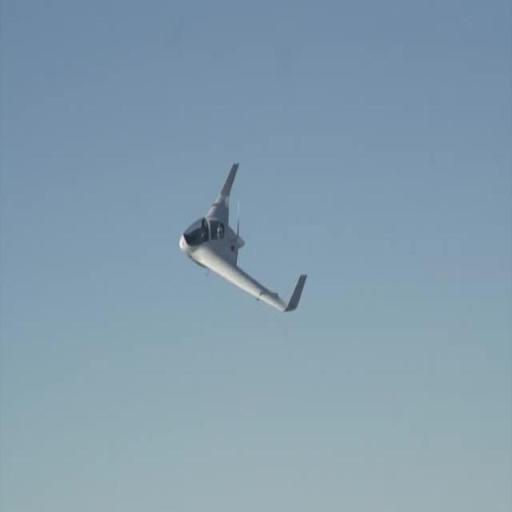uav: (177, 156, 311, 326)
